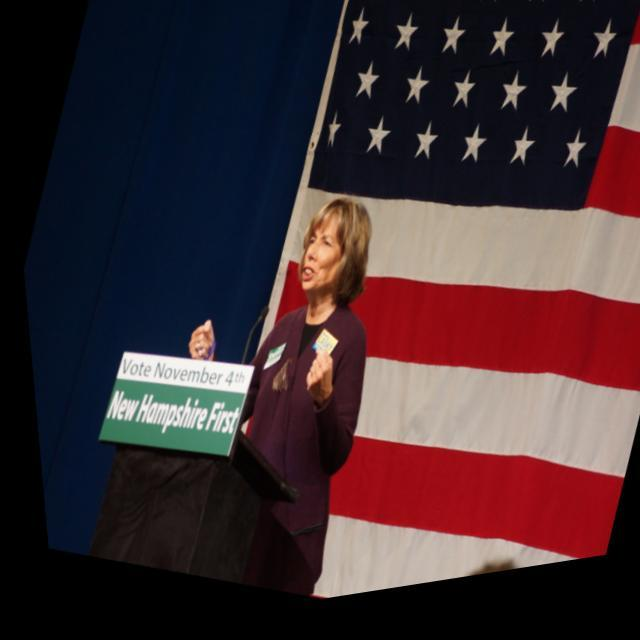Nonhelmet: (289, 193, 377, 314)
